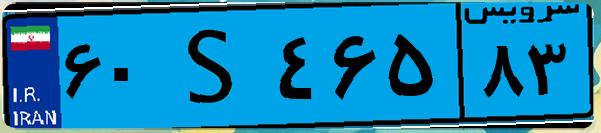0: (110, 28, 158, 98)
3: (525, 38, 570, 115)
4: (270, 28, 330, 110)
5: (385, 28, 445, 110)
6: (330, 28, 385, 110), (57, 26, 110, 100)
8: (475, 38, 525, 113)
S: (158, 12, 270, 120)
